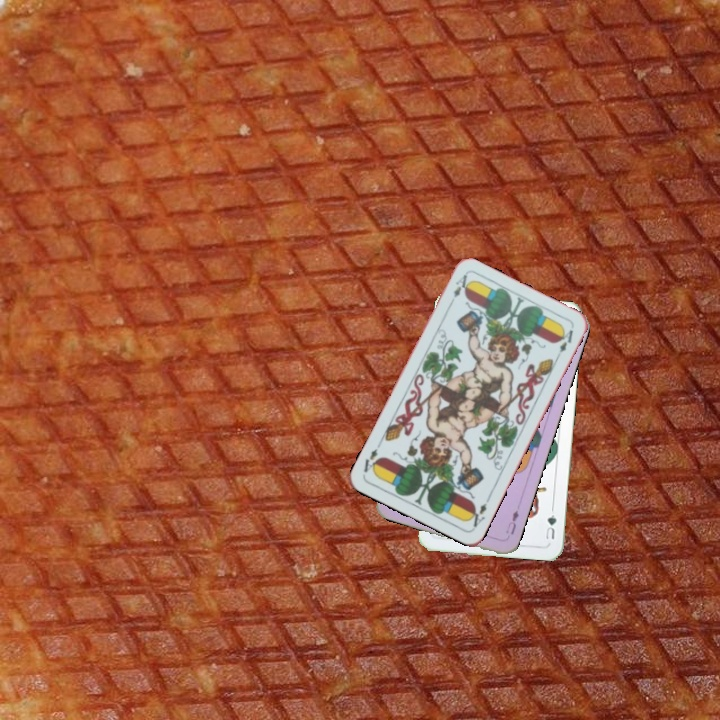EA: (465, 493, 493, 530), (449, 270, 471, 300)
EU: (502, 506, 521, 537)
GU: (542, 511, 559, 542)
